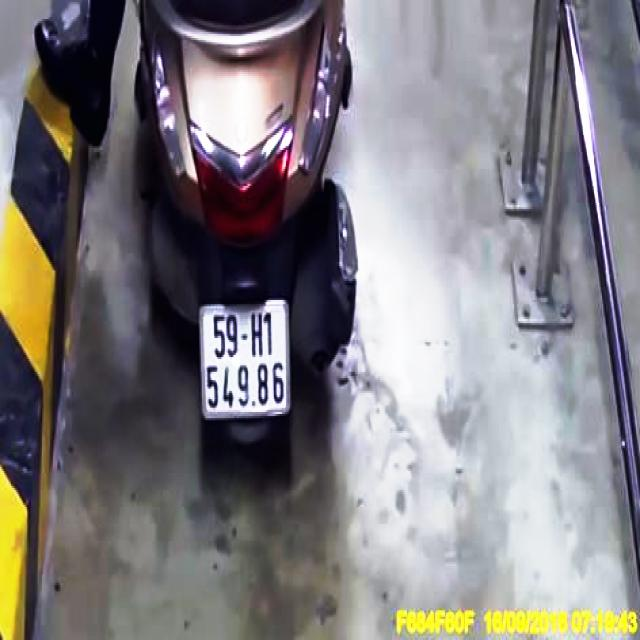license_plate: (200, 301, 289, 418)
